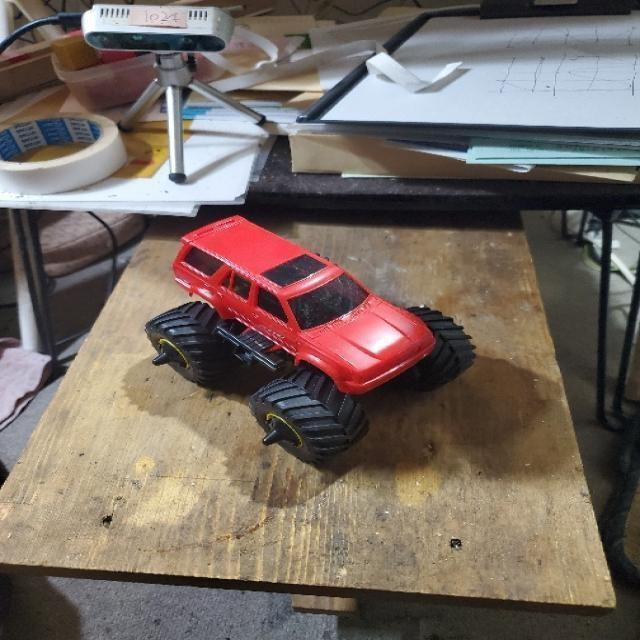Car: (122, 198, 524, 488)
